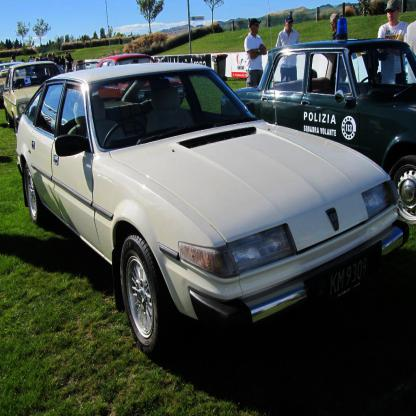Car: (0, 17, 416, 359)
